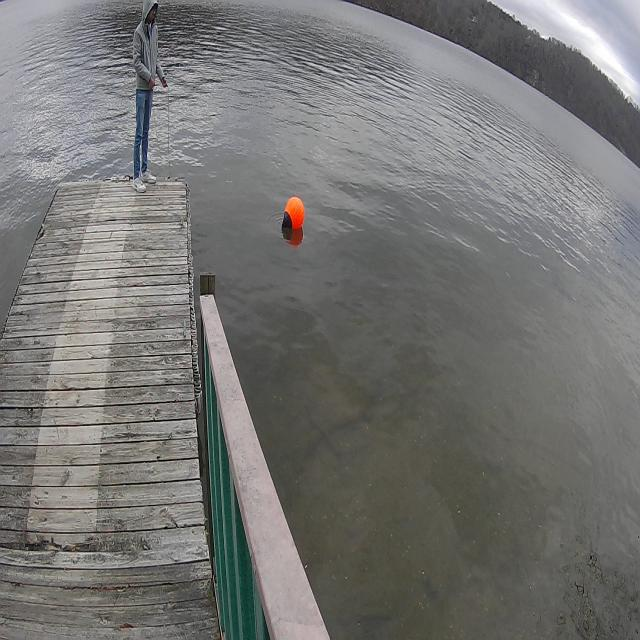Buoy: (282, 193, 307, 241)
